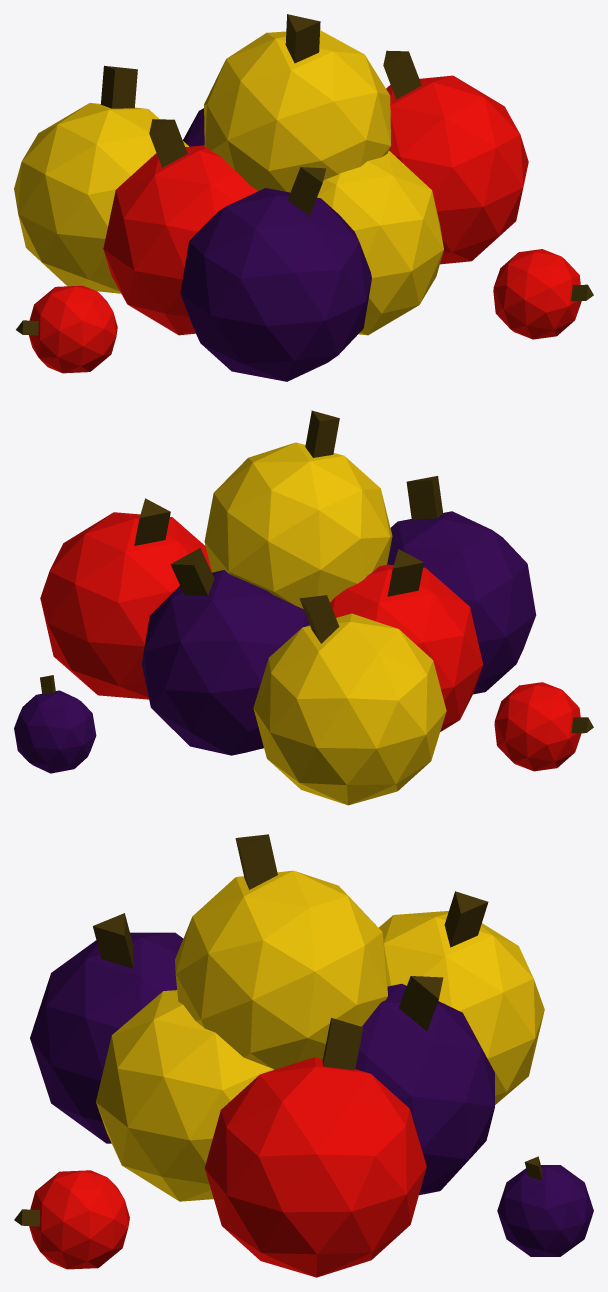
The model's file is berry.fbx.
3 views of the same model, one above another, from view 1: azimuth 30°, elevation 25°; view 2: azimuth 150°, elevation 25°; view 3: azimuth 270°, elevation 25° (orthographic). The views are drawn at different scales.
Parts seen in each view (by area): view 1: Icosphere.004, Icosphere.006, Icosphere.005, Icosphere.002, Icosphere.003, Icosphere.001, Icosphere.007, Icosphere.009, Icosphere; view 2: Icosphere.005, Icosphere.006, Icosphere, Icosphere.002, Icosphere.004, Icosphere.003, Icosphere.009, Icosphere.008; view 3: Icosphere.002, Icosphere.006, Icosphere.001, Icosphere, Icosphere.004, Icosphere.005, Icosphere.007, Icosphere.008.
Part boxes in pixels (x1=…): Icosphere.004: x1=180, y1=167, x2=371, y2=381; Icosphere.006: x1=204, y1=14, x2=390, y2=192; Icosphere.005: x1=14, y1=65, x2=188, y2=293; Icosphere.002: x1=383, y1=50, x2=528, y2=264; Icosphere.003: x1=103, y1=119, x2=257, y2=335; Icosphere.001: x1=317, y1=151, x2=443, y2=335; Icosphere.007: x1=493, y1=249, x2=593, y2=339; Icosphere.009: x1=16, y1=285, x2=117, y2=373; Icosphere: x1=183, y1=108, x2=204, y2=146; Icosphere.005: x1=253, y1=595, x2=446, y2=805; Icosphere.006: x1=204, y1=410, x2=392, y2=608; Icosphere: x1=142, y1=548, x2=309, y2=755; Icosphere.002: x1=40, y1=498, x2=211, y2=699; Icosphere.004: x1=387, y1=476, x2=536, y2=694; Icosphere.003: x1=330, y1=549, x2=483, y2=731; Icosphere.009: x1=494, y1=682, x2=593, y2=771; Icosphere.008: x1=14, y1=675, x2=96, y2=773; Icosphere.002: x1=205, y1=1017, x2=426, y2=1277; Icosphere.006: x1=175, y1=834, x2=387, y2=1069; Icosphere.001: x1=96, y1=990, x2=273, y2=1201; Icosphere: x1=355, y1=976, x2=494, y2=1195; Icosphere.004: x1=30, y1=913, x2=183, y2=1143; Icosphere.005: x1=379, y1=891, x2=544, y2=1104; Icosphere.007: x1=14, y1=1170, x2=129, y2=1269; Icosphere.008: x1=497, y1=1156, x2=593, y2=1256.
Size of the model in its own units: 611 by 339 by 522.
